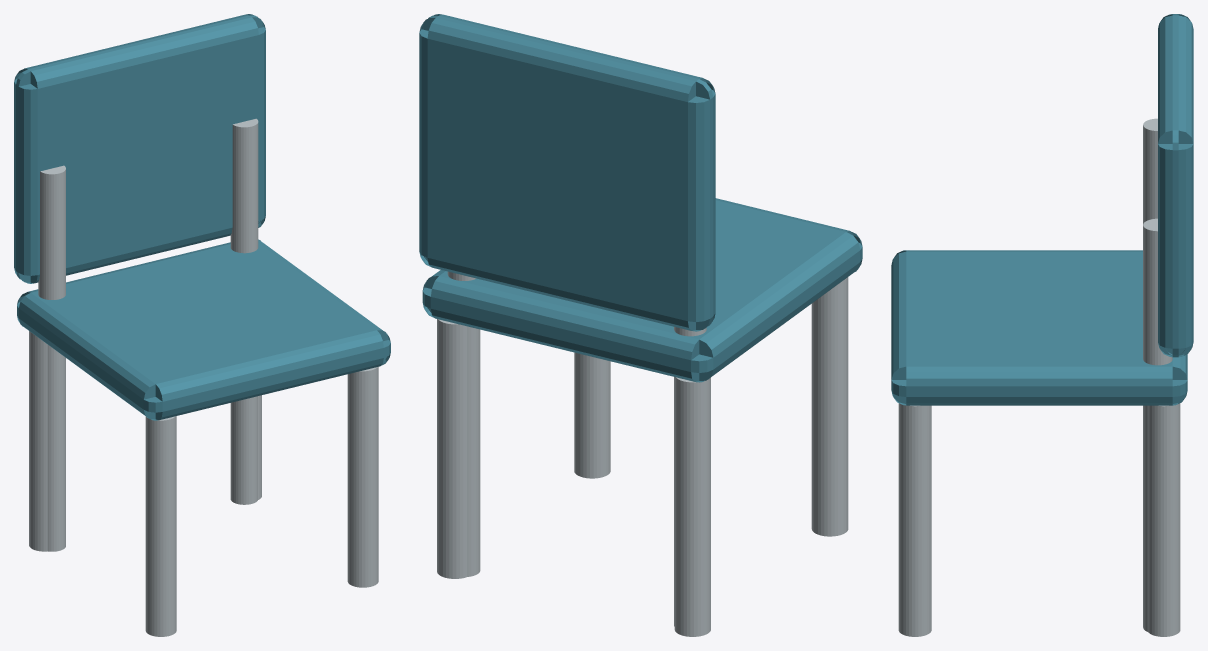
Rendered from basketball-club-and-street-courts-player-chair-8eabfc77__28557.glb.
3 renders of one model, left to right at view 1: azimuth 30°, elevation 25°; view 2: azimuth 150°, elevation 25°; view 3: azimuth 270°, elevation 25°, orthographic. The views are drawn at different scales.
Visible parts, largest first — view 1: player-chair; view 2: player-chair; view 3: player-chair.
Boxes of the visible parts, left/top/right/bottom form: player-chair: left=14, top=14, right=390, bottom=636; player-chair: left=419, top=14, right=862, bottom=636; player-chair: left=891, top=14, right=1193, bottom=636.
Size of the model in its own units: 0.51 by 0.94 by 0.51.
